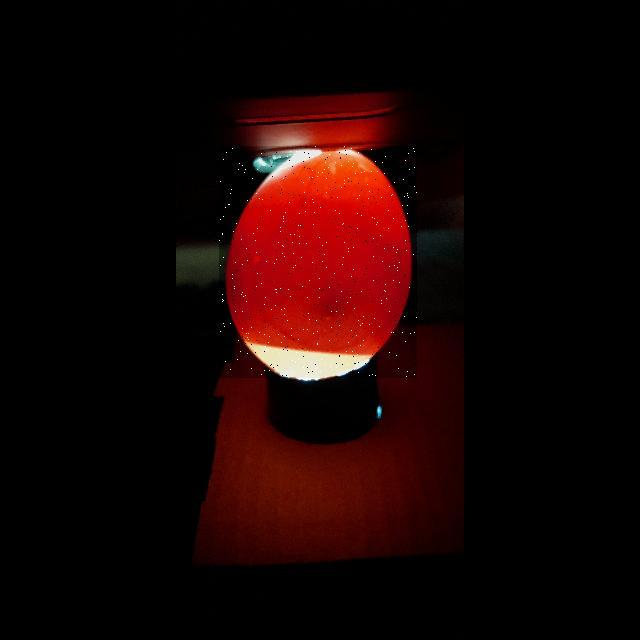Fertile: (219, 146, 417, 378)
